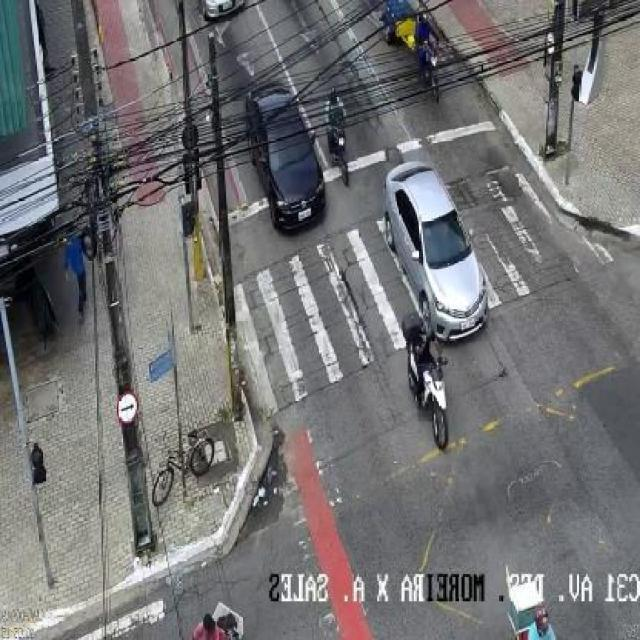Car: (382, 162, 492, 342), (249, 91, 331, 242)
Cycle: (398, 316, 462, 454), (377, 3, 448, 91), (322, 89, 353, 178)
